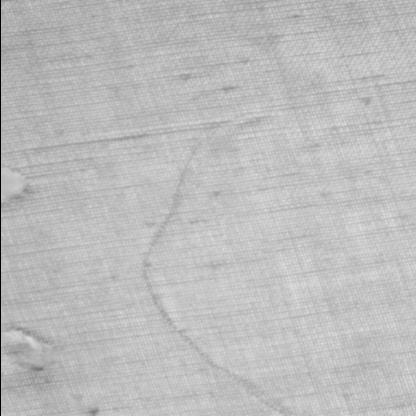objects: (135, 116, 307, 415), (1, 326, 57, 372), (1, 162, 31, 206)
